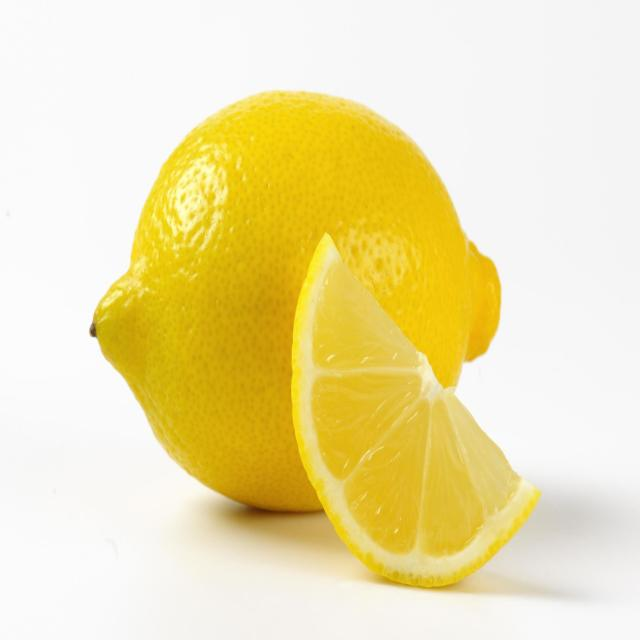lemon: (82, 85, 506, 519), (285, 230, 545, 595)
